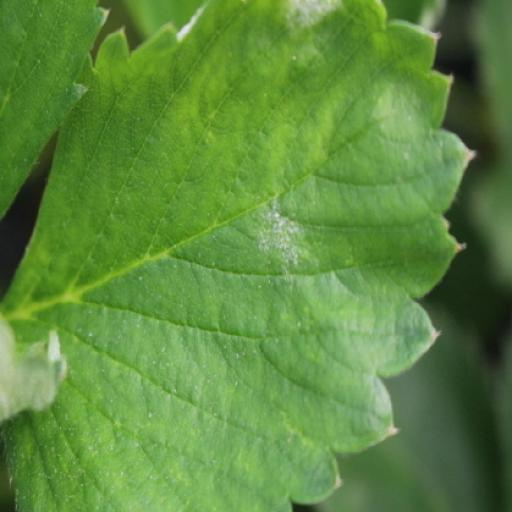Powdery Mildew Leaf: (0, 0, 477, 511)
